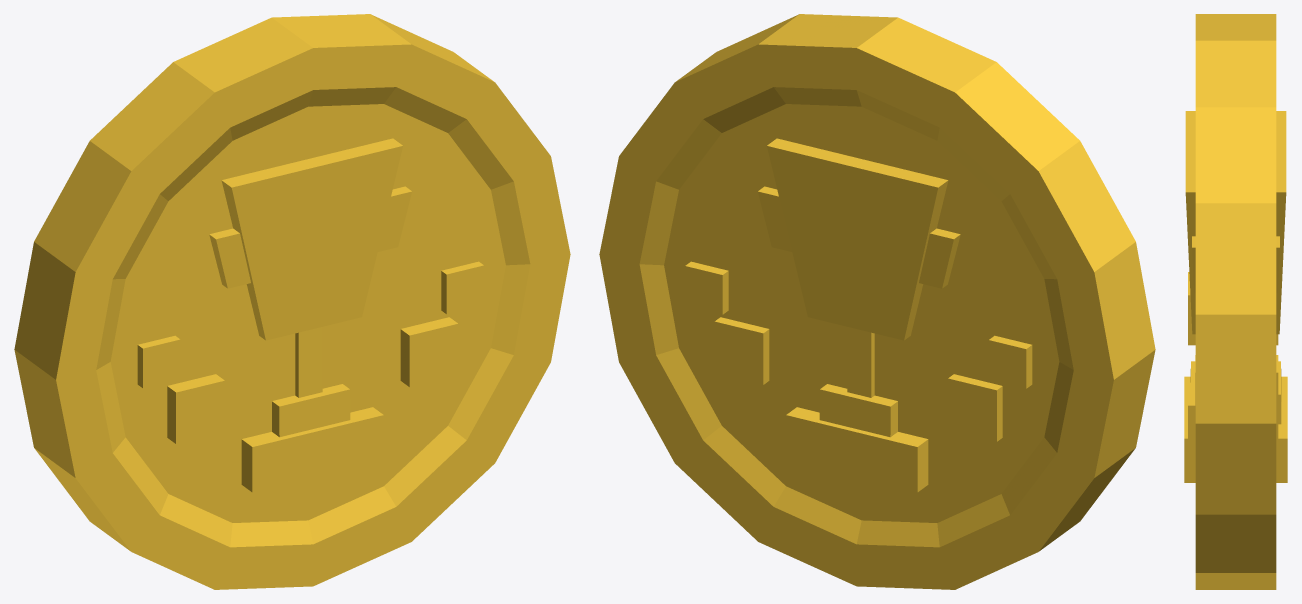
File: jinbi.FBX
The picture shows the model from 3 angles, left to right: view 1: azimuth 30°, elevation 25°; view 2: azimuth 150°, elevation 25°; view 3: azimuth 270°, elevation 25°; orthographic projection. The views are drawn at different scales.
Parts seen in each view (by area): view 1: jinbi; view 2: jinbi; view 3: jinbi.
Boxes of the visible parts, x1,y1,x2,y2 form: jinbi: (14,14,570,589); jinbi: (599,14,1155,589); jinbi: (1184,14,1287,589).
Bounding box in the file's own units: 198 × 198 × 35.61.
Materials: 1 (1 with a texture image).
